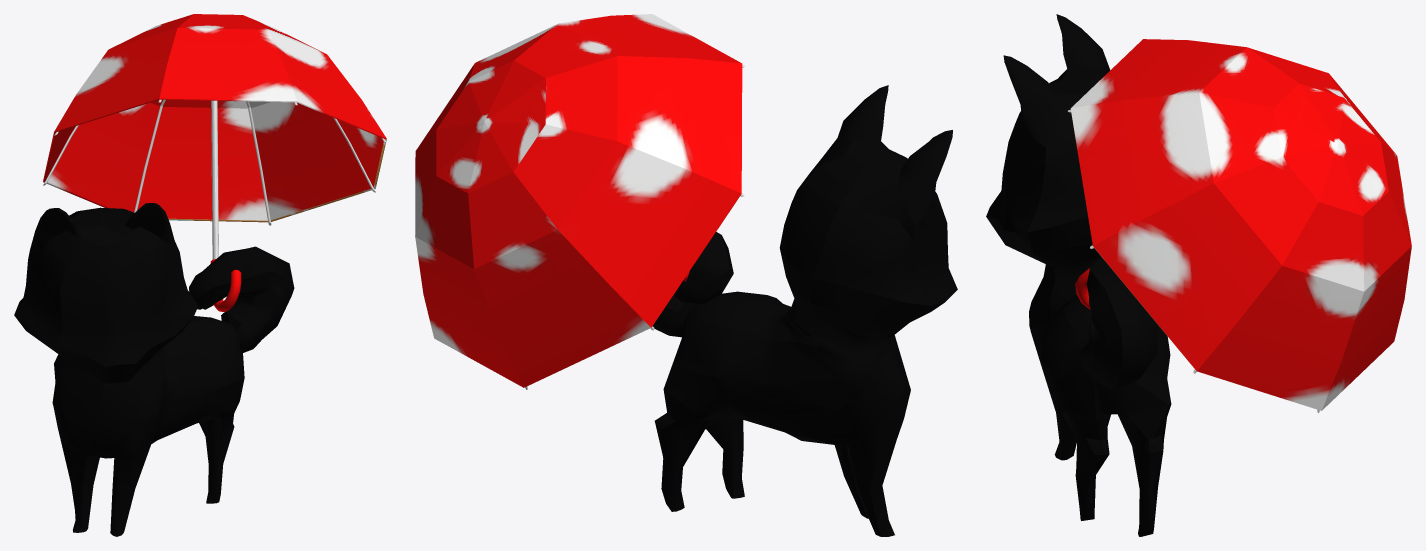
The model's file is umbrella_Frame46.obj.
3 renders of one model, left to right at view 1: azimuth 30°, elevation 25°; view 2: azimuth 150°, elevation 25°; view 3: azimuth 270°, elevation 25°, orthographic. The views are drawn at different scales.
Visible parts, largest first — view 1: polySurface4, newRigging:BodzL1; view 2: polySurface4, newRigging:BodzL1; view 3: polySurface4, newRigging:BodzL1.
Part boxes in pixels (x1,y1,x2,y2): polySurface4: (43,14,386,311); newRigging:BodzL1: (14,203,294,536); polySurface4: (415,14,744,389); newRigging:BodzL1: (653,85,957,536); polySurface4: (1068,39,1411,412); newRigging:BodzL1: (986,14,1171,536).
Size of the model in its own units: 9.53 by 9.66 by 7.6.
Materials: 2 (1 with a texture image).
